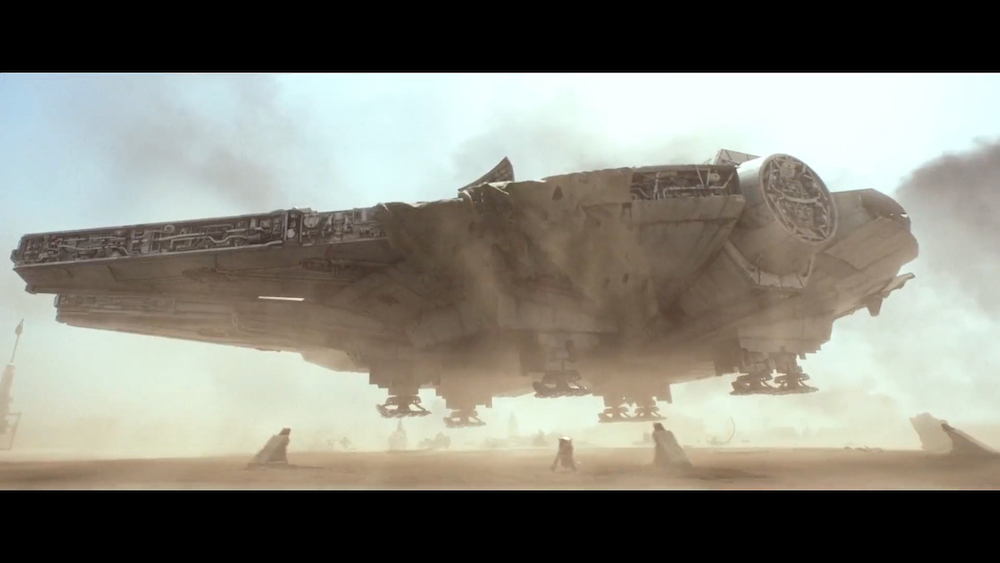Millennium Falcon: (12, 151, 921, 404)
